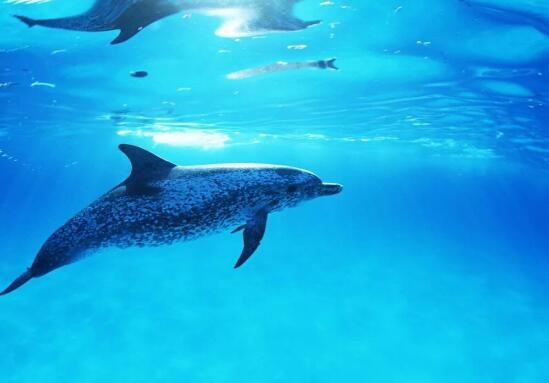fish: (1, 141, 344, 299), (5, 1, 325, 47)
